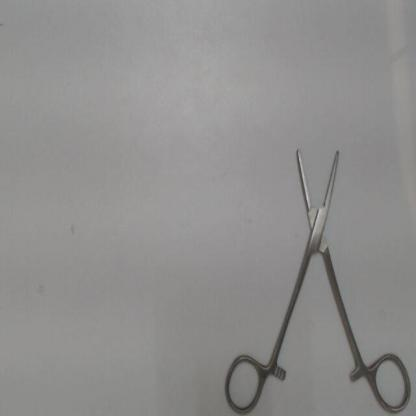Mayo Needle Holder: (219, 130, 414, 416)
